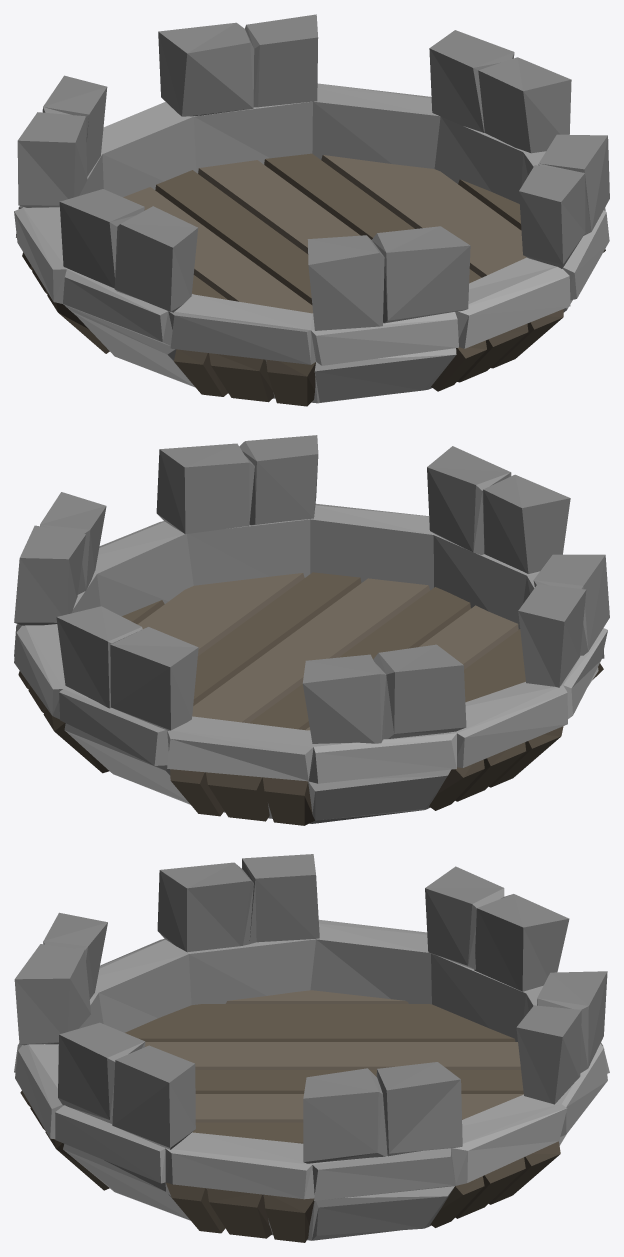
Rendered from _TOWER_4_UP_01.fbx.
3 views of the same model, one above another, from view 1: azimuth 30°, elevation 25°; view 2: azimuth 150°, elevation 25°; view 3: azimuth 270°, elevation 25° (orthographic).
Parts seen in each view (by area): view 1: TOWER_4_UP_01; view 2: TOWER_4_UP_01; view 3: TOWER_4_UP_01.
Part boxes in pixels (x1,y1,x2,y2): TOWER_4_UP_01: [14, 14, 609, 406]; TOWER_4_UP_01: [14, 435, 609, 825]; TOWER_4_UP_01: [14, 854, 609, 1242].
Bounding box in the file's own units: 663 × 210 × 664.
